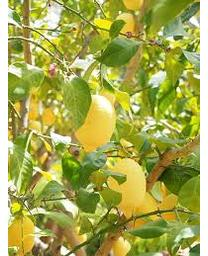lemon: (77, 95, 115, 151), (109, 160, 147, 216)
